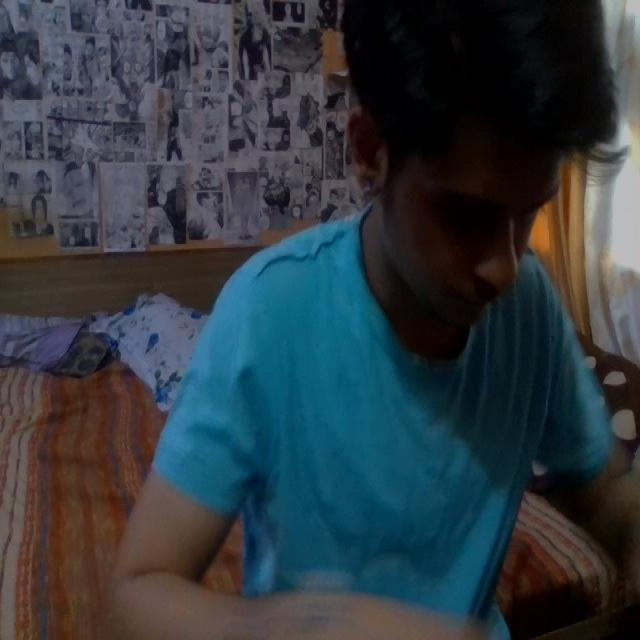focused: (172, 1, 608, 640)
